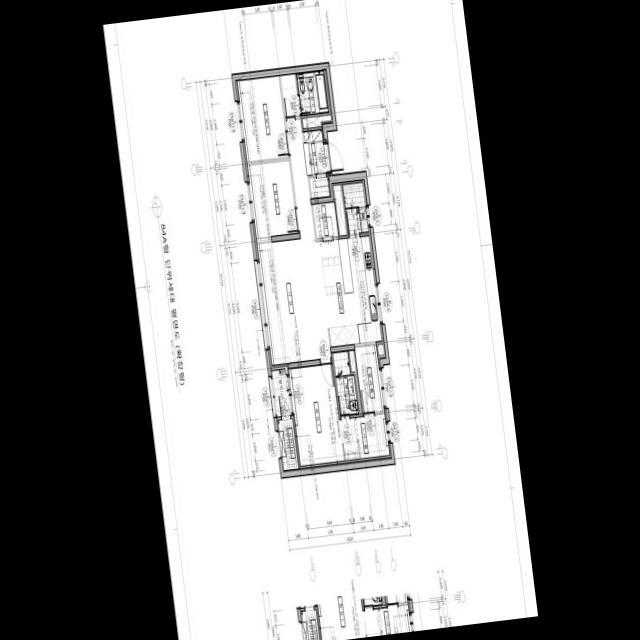background: (102, 0, 538, 640)
space_balconi: (342, 182, 368, 234), (271, 369, 291, 416)
space_bedroom: (288, 364, 359, 465), (237, 76, 288, 161), (247, 160, 297, 238)
space_dressroom: (355, 414, 389, 458)
space_front: (303, 130, 326, 176)
space_kitchen: (318, 235, 381, 346)
space_living_room: (257, 118, 331, 364)
space_other: (354, 345, 383, 413), (312, 202, 337, 238), (348, 350, 361, 413), (280, 74, 299, 117), (333, 185, 346, 235), (309, 176, 329, 198), (301, 115, 330, 128), (377, 344, 383, 355)
space_outdoor_room: (277, 419, 298, 470)
space_toilet: (332, 351, 358, 415), (296, 71, 328, 114)
